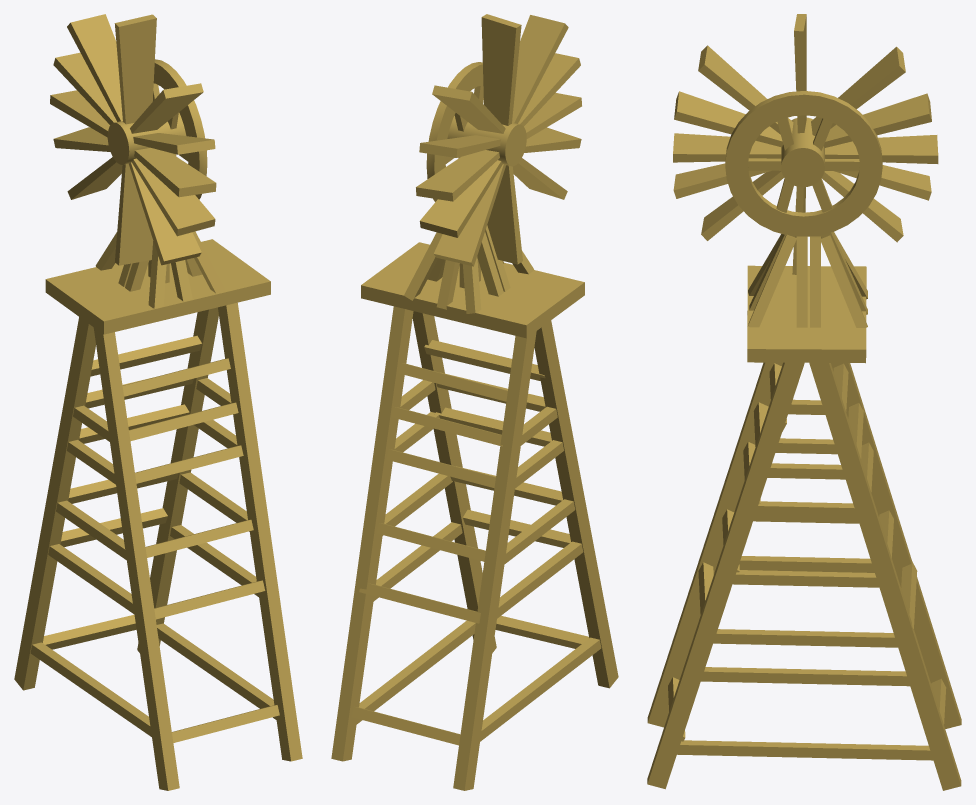
File: Mill.fbx
The picture shows the model from 3 angles, left to right: view 1: azimuth 30°, elevation 25°; view 2: azimuth 150°, elevation 25°; view 3: azimuth 270°, elevation 25°; orthographic projection. The views are drawn at different scales.
Parts seen in each view (by area): view 1: Cube.022; view 2: Cube.022; view 3: Cube.022.
Part boxes in pixels (<box>): Cube.022: <box>14,14,302,790</box>; Cube.022: <box>331,14,618,790</box>; Cube.022: <box>647,14,961,790</box>.
Size of the model in its own units: 164 by 669 by 263.
